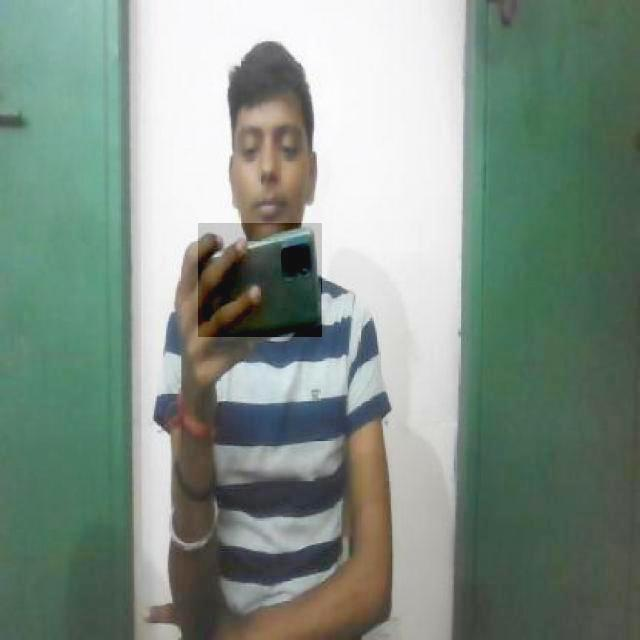phone: (198, 223, 322, 337)
